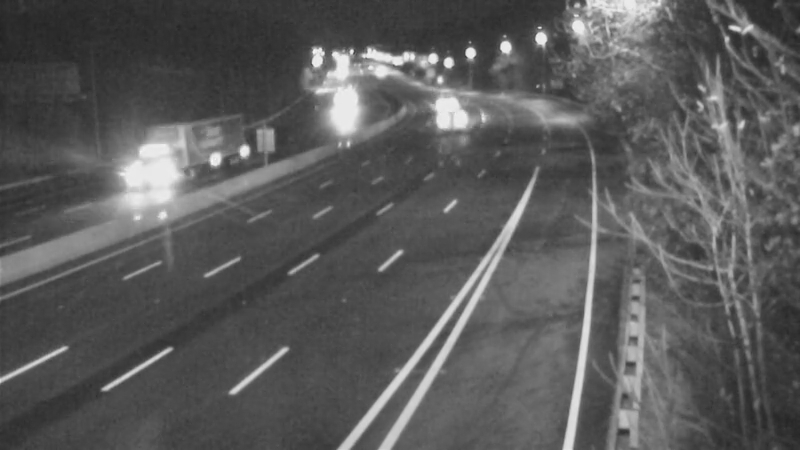vehicle: (113, 137, 193, 217), (416, 77, 466, 127), (423, 96, 473, 146), (321, 77, 371, 127)
